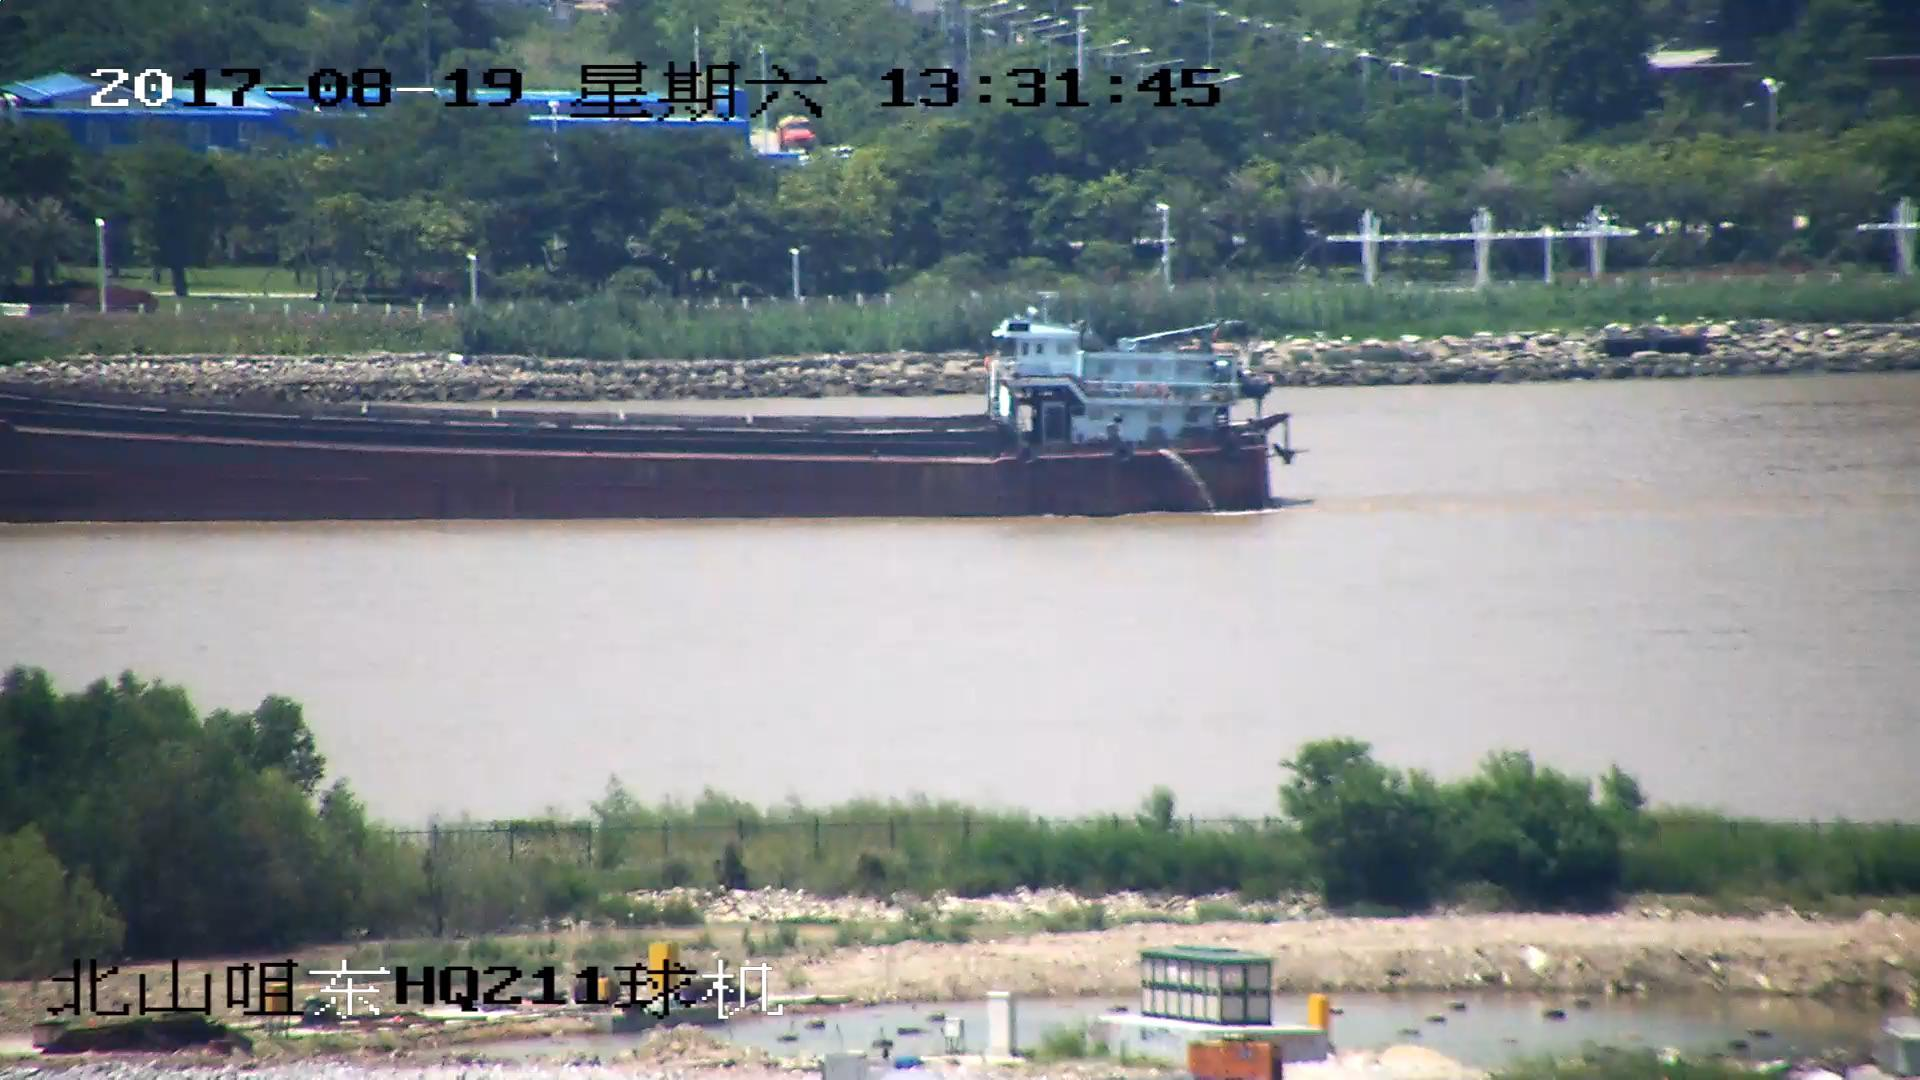Ship: (3, 295, 1290, 518)
